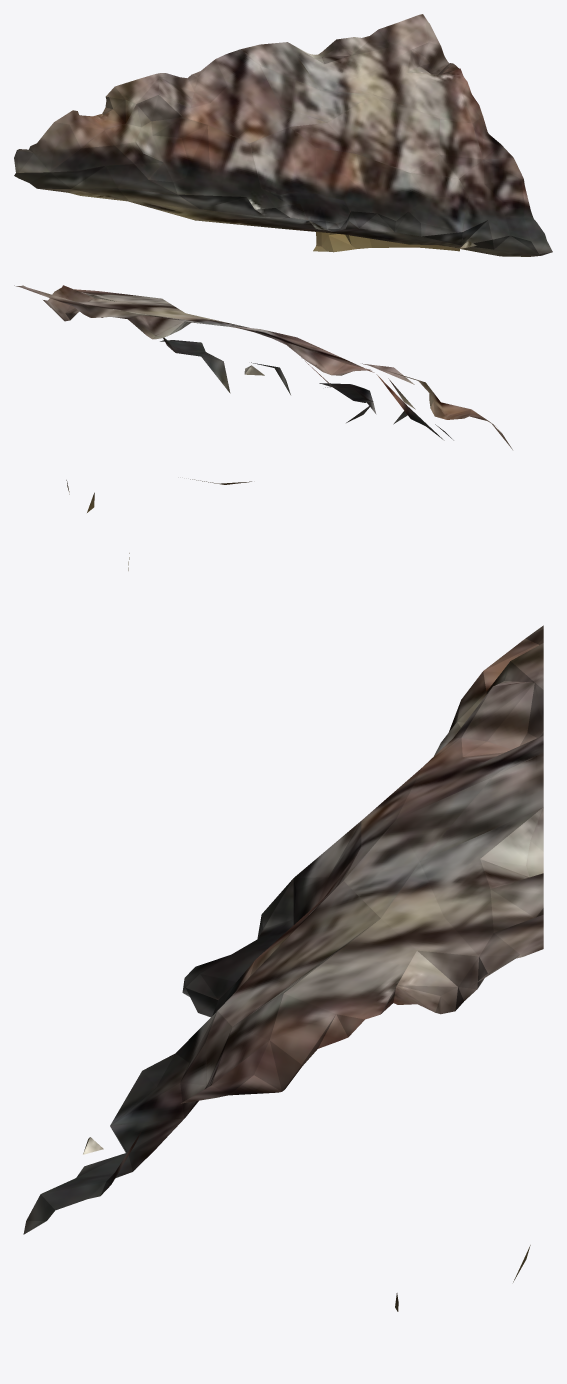
3 views of the same model, one above another, from view 1: azimuth 30°, elevation 25°; view 2: azimuth 150°, elevation 25°; view 3: azimuth 270°, elevation 25° (orthographic). The views are drawn at different scales.
Size of the model in its own units: 1.67 by 0.859 by 0.9222.
Materials: 2 (2 with a texture image).
